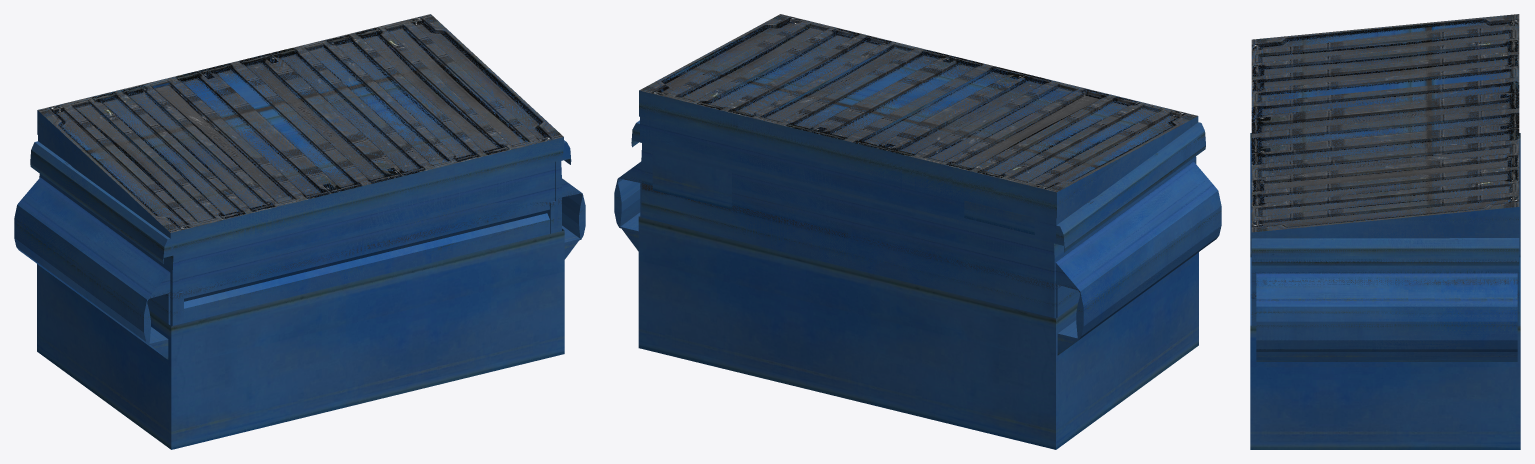
File: Dumpster.fbx
3 renders of one model, left to right at view 1: azimuth 30°, elevation 25°; view 2: azimuth 150°, elevation 25°; view 3: azimuth 270°, elevation 25°, orthographic. The views are drawn at different scales.
Parts seen in each view (by area): view 1: Group1; view 2: Group1; view 3: Group1.
Boxes of the visible parts, bbox=[...] form: Group1: bbox=[14, 14, 585, 449]; Group1: bbox=[614, 14, 1221, 449]; Group1: bbox=[1250, 14, 1520, 449].
Size of the model in its own units: 96.23 by 50.39 by 50.76.
